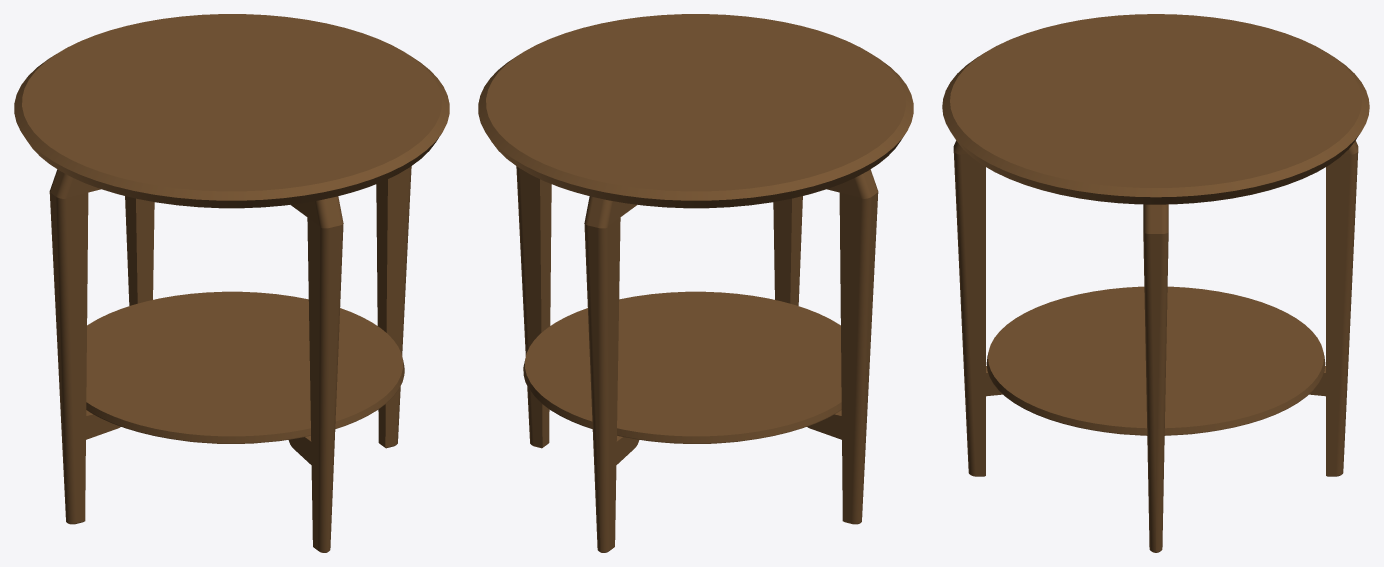
Rendered from 359_サイドテーブル.glb.
The picture shows the model from 3 angles, left to right: view 1: azimuth 30°, elevation 25°; view 2: azimuth 150°, elevation 25°; view 3: azimuth 270°, elevation 25°; orthographic projection.
Visible parts, largest first — view 1: Body1; view 2: Body1; view 3: Body1.
Boxes of the visible parts, left/top/right/bottom form: Body1: left=14, top=14, right=449, bottom=552; Body1: left=478, top=14, right=913, bottom=552; Body1: left=942, top=14, right=1369, bottom=552.
Size of the model in its own units: 0.5706 by 0.55 by 0.5706.
